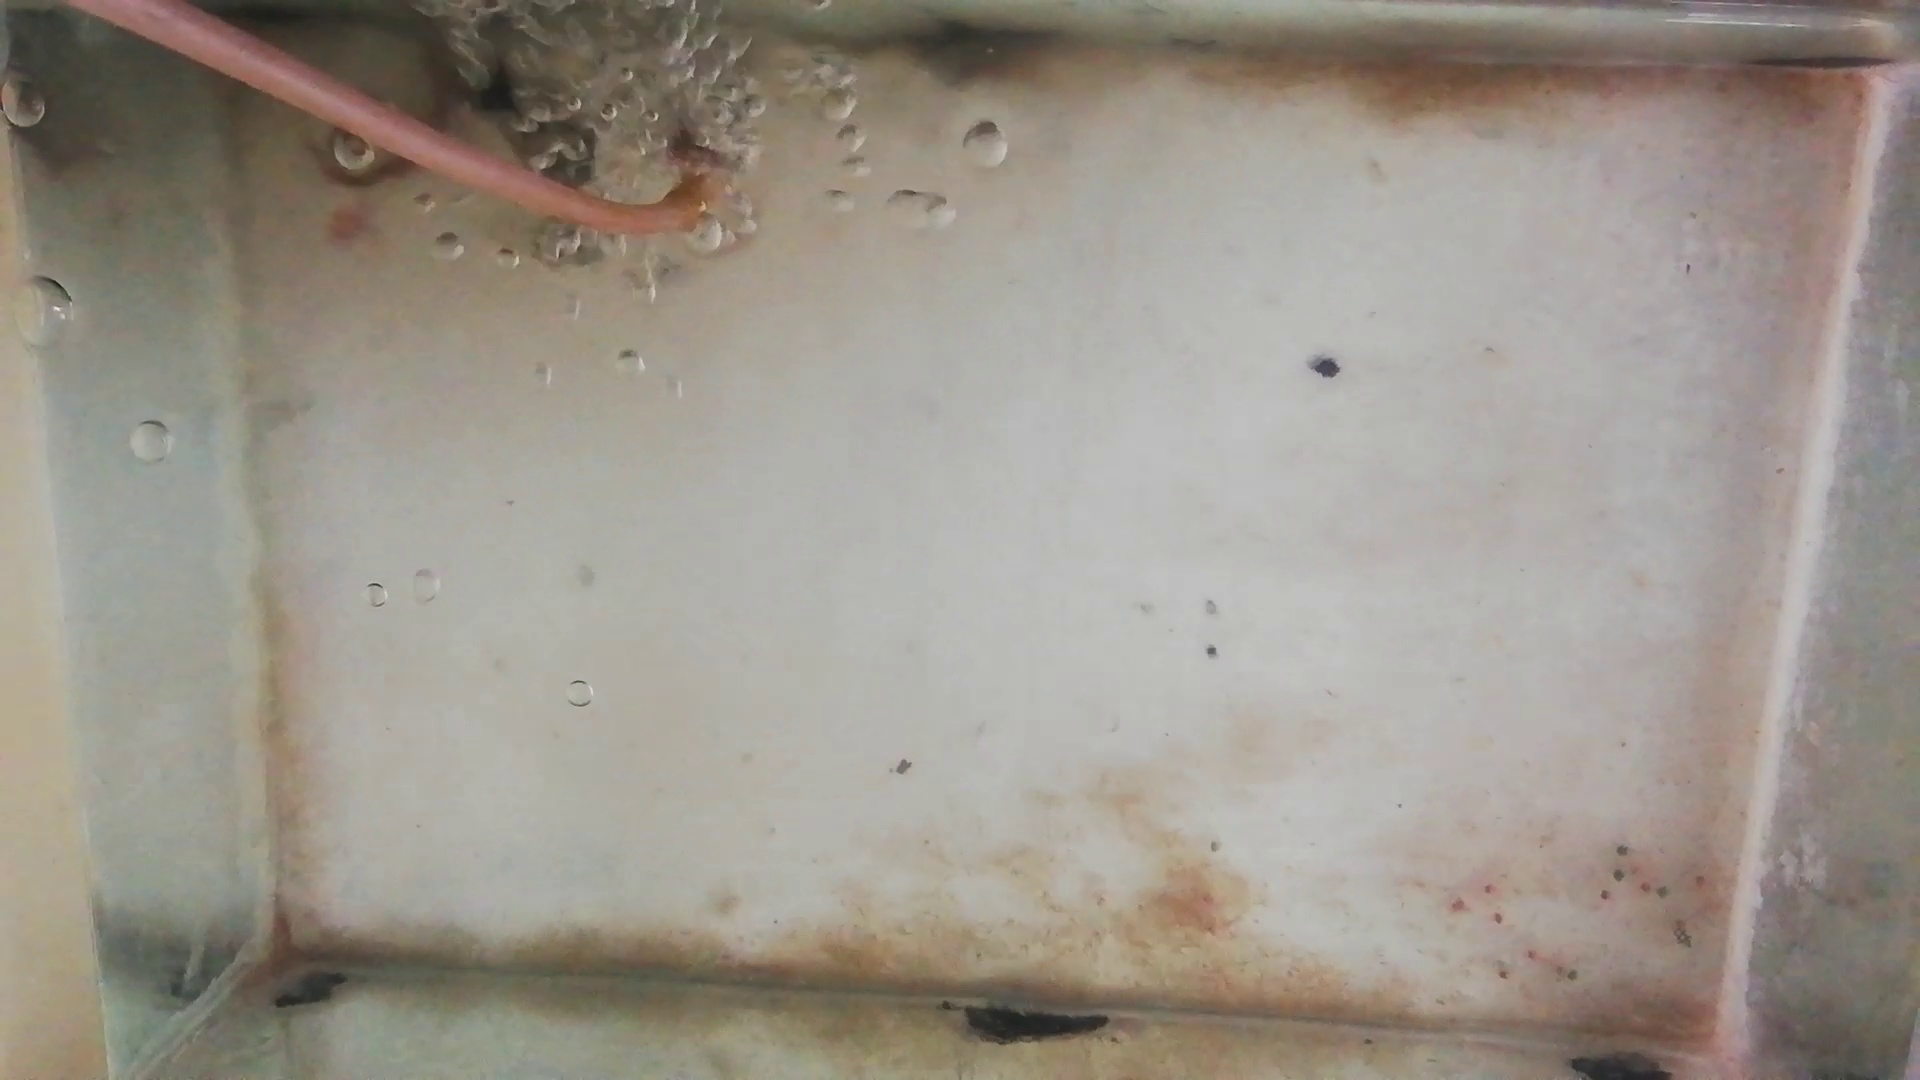fish: (444, 40, 595, 181), (316, 109, 456, 185)
